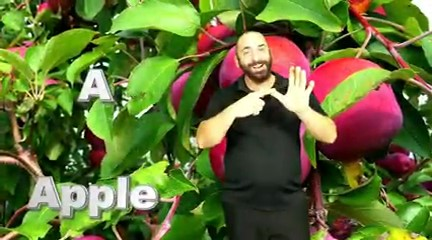A: (232, 64, 317, 118)
